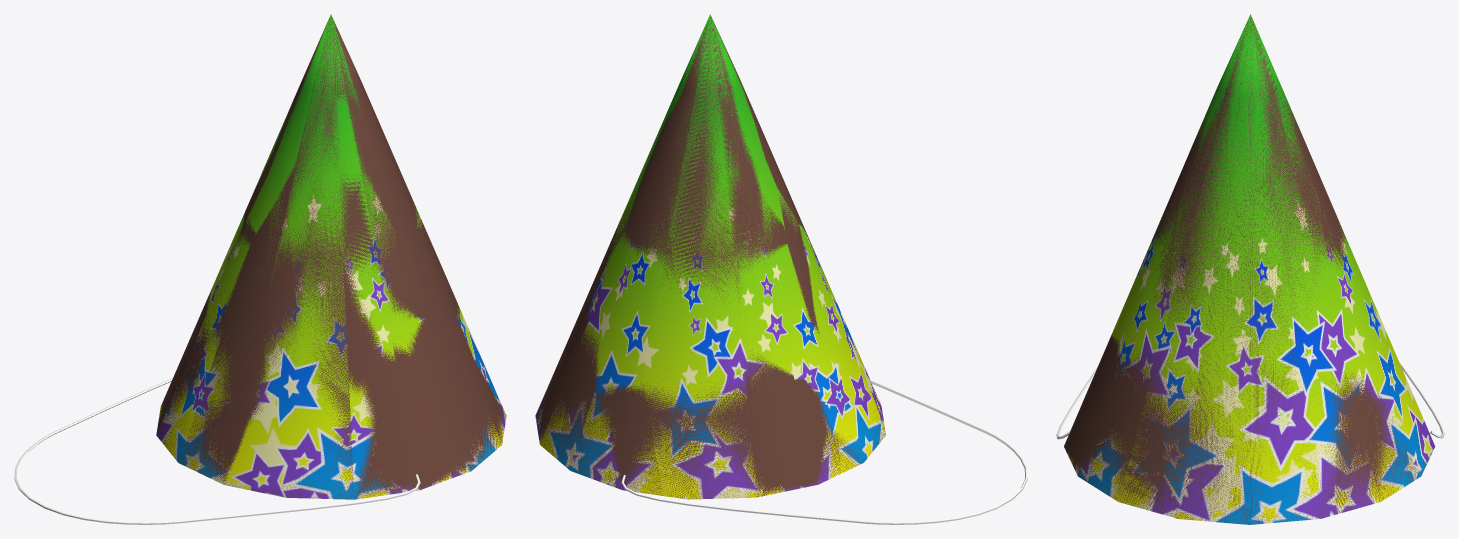
File: party hat.FBX
The picture shows the model from 3 angles, left to right: view 1: azimuth 30°, elevation 25°; view 2: azimuth 150°, elevation 25°; view 3: azimuth 270°, elevation 25°; orthographic projection. The views are drawn at different scales.
Parts seen in each view (by area): view 1: party hat cone, party hat string; view 2: party hat cone, party hat string; view 3: party hat cone, party hat string.
Boxes of the visible parts, x1,y1,x2,y2 form: party hat cone: [156, 14, 506, 499]; party hat string: [14, 378, 420, 524]; party hat cone: [535, 14, 885, 499]; party hat string: [621, 380, 1027, 524]; party hat cone: [1064, 14, 1435, 524]; party hat string: [1056, 359, 1444, 439].
Bounding box in the file's own units: 0.1959 × 0.1377 × 0.1697.
